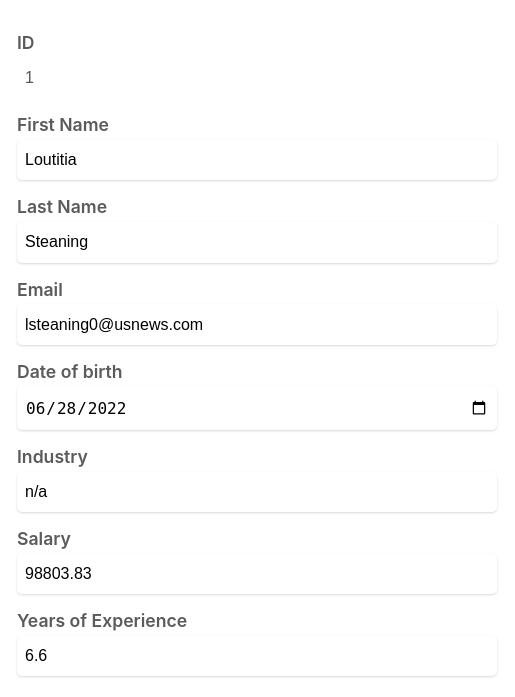
Scenario: EmployeeForm › should display matching error when email is invalid
Replace the text in the field below "Email" with "test" at (257, 324), box left=17, top=304, right=497, bottom=345
(page scrolled)
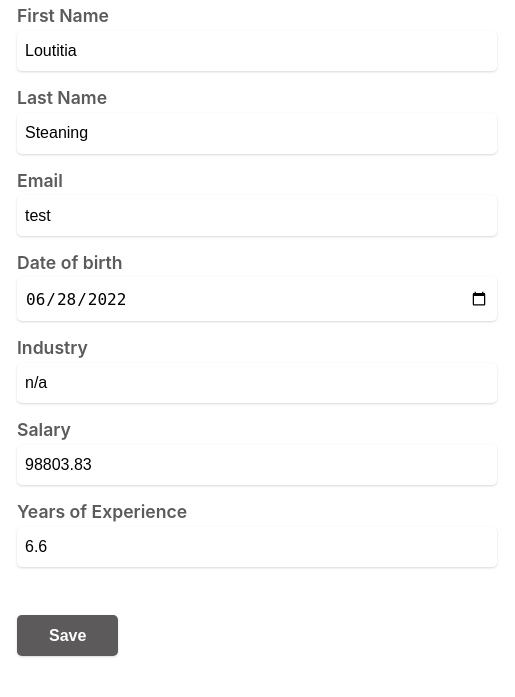
Submit the form from the button, box left=17, top=615, right=118, bottom=656
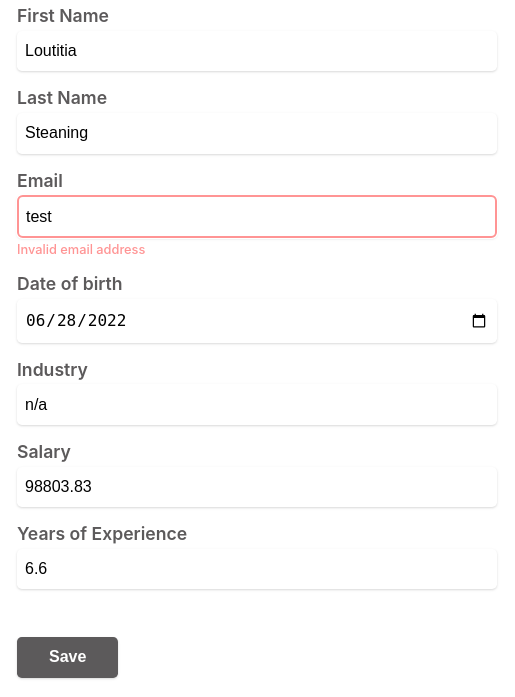
Now the text "Invalid email address" is shown, box left=17, top=242, right=145, bottom=258
